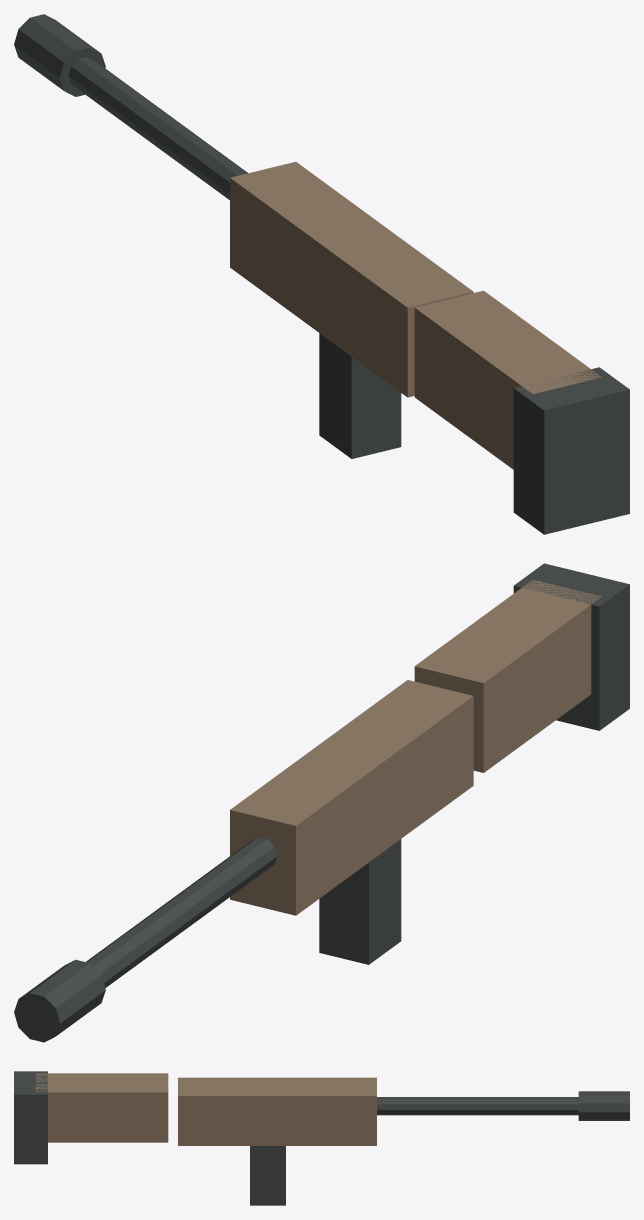
Rendered from weapon_sks.glb.
3 renders of one model, top to bottom at view 1: azimuth 30°, elevation 25°; view 2: azimuth 150°, elevation 25°; view 3: azimuth 270°, elevation 25°, orthographic. The views are drawn at different scales.
Visible parts, largest first — view 1: receiver_0, stock_4, butt_5, grip_3, barrel_1, muzzle_2; view 2: receiver_0, stock_4, butt_5, grip_3, barrel_1, muzzle_2; view 3: receiver_0, stock_4, barrel_1, butt_5, grip_3, muzzle_2.
Part boxes in pixels (x1,y1,x2,y2): receiver_0: (230,161,473,397); stock_4: (414,290,601,469); butt_5: (513,367,629,534); grip_3: (319,333,401,458); barrel_1: (68,57,247,199); muzzle_2: (14,14,105,96); receiver_0: (230,680,473,915); stock_4: (414,580,601,772); butt_5: (513,563,629,730); grip_3: (319,839,401,964); barrel_1: (86,837,277,987); muzzle_2: (14,959,105,1042); receiver_0: (178,1077,376,1145); stock_4: (35,1073,168,1142); barrel_1: (377,1097,578,1115); butt_5: (14,1071,47,1164); grip_3: (250,1146,285,1205); muzzle_2: (578,1091,629,1120).
Size of the model in its own units: 0.13 by 0.3 by 1.44.
